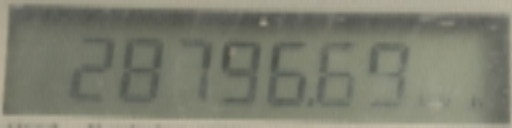2: (69, 28, 113, 112)
5: (318, 33, 362, 117)
6: (265, 31, 309, 115)
7: (168, 24, 212, 108)
8: (123, 26, 167, 110)
9: (220, 24, 264, 108), (364, 35, 408, 119)
d: (303, 89, 318, 116)
